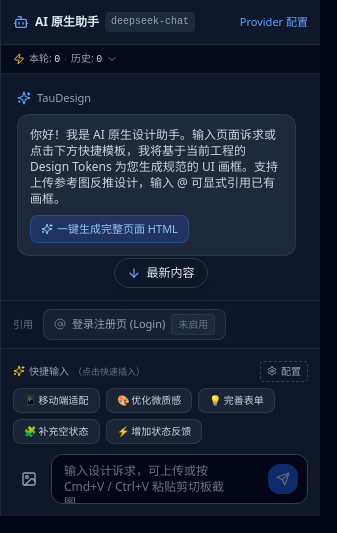
Scenario: ChatDrawer: Chat Scroll Control & Floating "Latest Content" Button › CHK-SC-04: clicking floating button scrolls to bottom and hides button
(page scrolled)
Note: Click floating button
What coordinates should you click on to do the following:
click the button with test id "scroll-to-bottom-btn"
I would click on:
 (160, 273)
Its box is x1=114 y1=258 x2=208 y2=288.
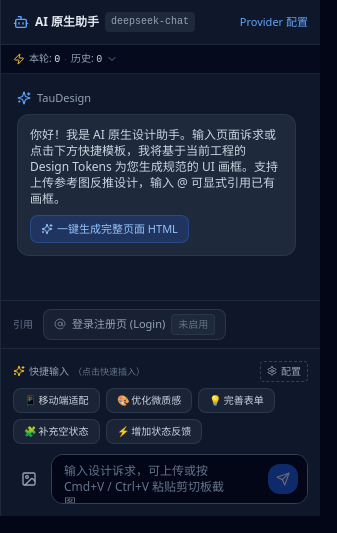
Expected: the button with test id "scroll-to-bottom-btn" is gone
